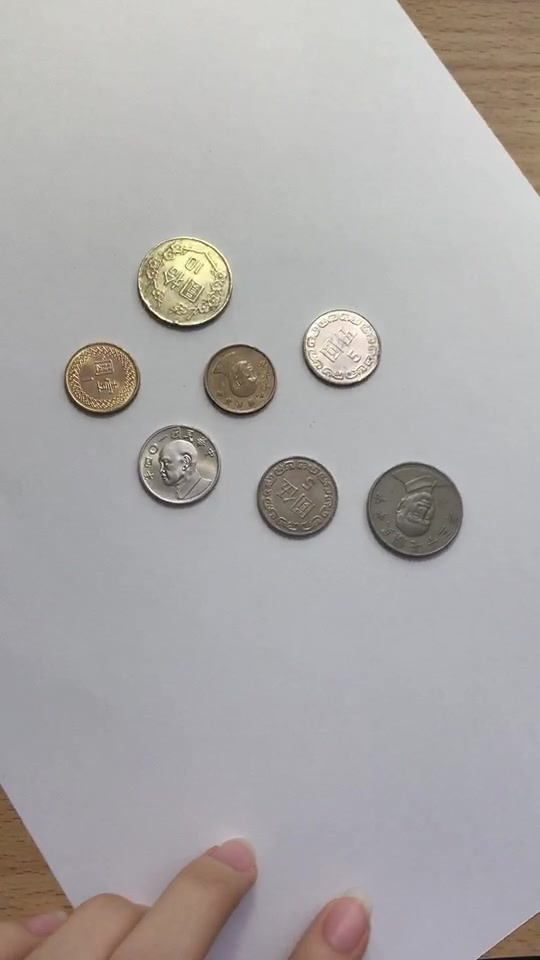1 dallar: (58, 336, 146, 417), (194, 337, 282, 418)
10 dallar: (358, 452, 472, 563), (127, 229, 244, 331)
5 dallar: (128, 420, 226, 512), (295, 303, 393, 395), (251, 450, 349, 542)
